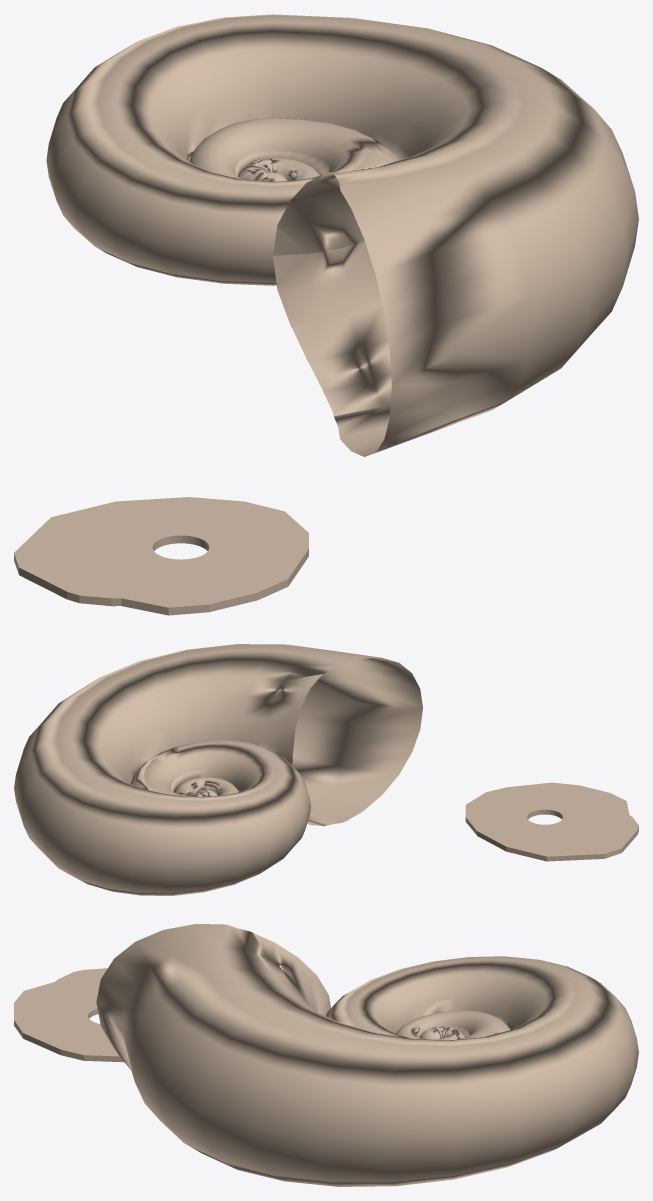
File: Cross Trade_Shell&bead.obj
3 renders of one model, top to bottom at view 1: azimuth 30°, elevation 25°; view 2: azimuth 150°, elevation 25°; view 3: azimuth 270°, elevation 25°, orthographic. The views are drawn at different scales.
Parts seen in each view (by area): view 1: Mesh1 Model, Mesh2 Model; view 2: Mesh1 Model, Mesh2 Model; view 3: Mesh1 Model, Mesh2 Model.
Boxes of the visible parts, bbox=[...] form: Mesh1 Model: bbox=[46, 14, 638, 456]; Mesh2 Model: bbox=[14, 497, 308, 615]; Mesh1 Model: bbox=[14, 644, 422, 895]; Mesh2 Model: bbox=[465, 782, 638, 861]; Mesh1 Model: bbox=[96, 924, 638, 1186]; Mesh2 Model: bbox=[14, 968, 123, 1062].
Size of the model in its own units: 0.2562 by 0.0827 by 0.2577.
